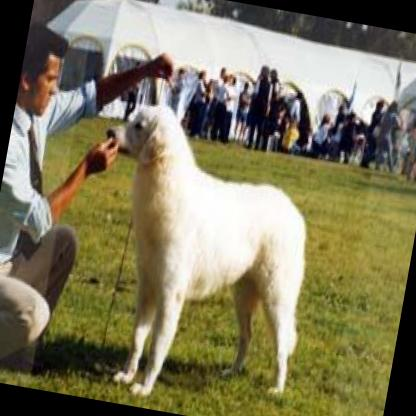kuvasz: (62, 91, 335, 416)
